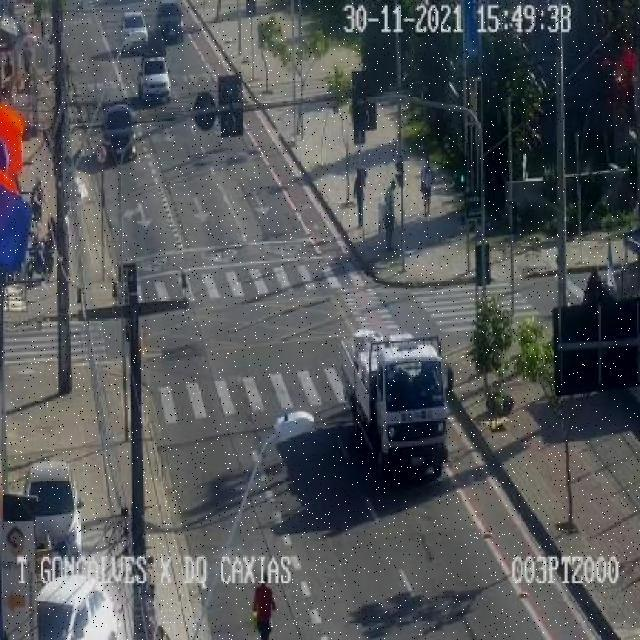Car: (8, 458, 92, 554), (37, 566, 119, 638), (101, 103, 140, 176), (135, 61, 171, 110), (119, 9, 152, 58), (153, 2, 184, 46)
Truck: (332, 326, 462, 466)
